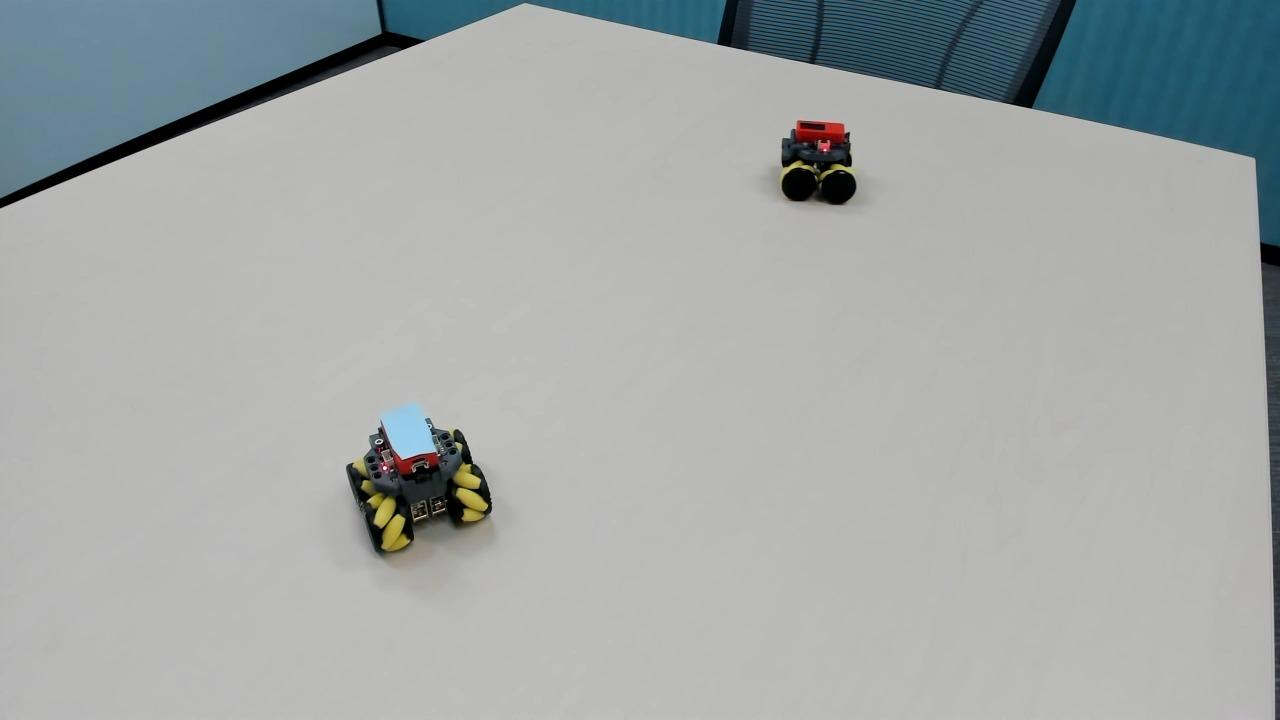B-Robot: (331, 396, 506, 581)
R-Robot: (768, 108, 864, 224)
